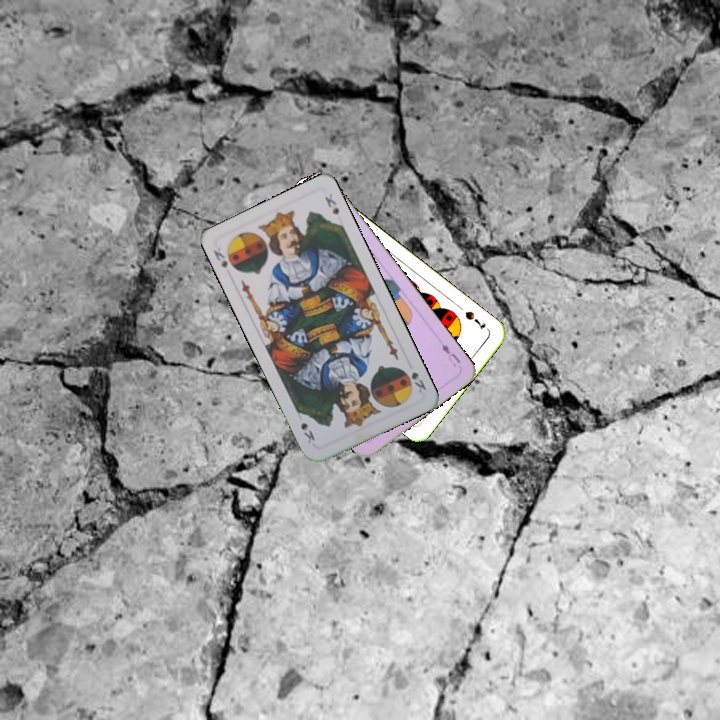EU: (437, 339, 463, 369)
S7: (461, 307, 488, 333)
SK: (407, 368, 429, 396), (209, 243, 230, 272)
